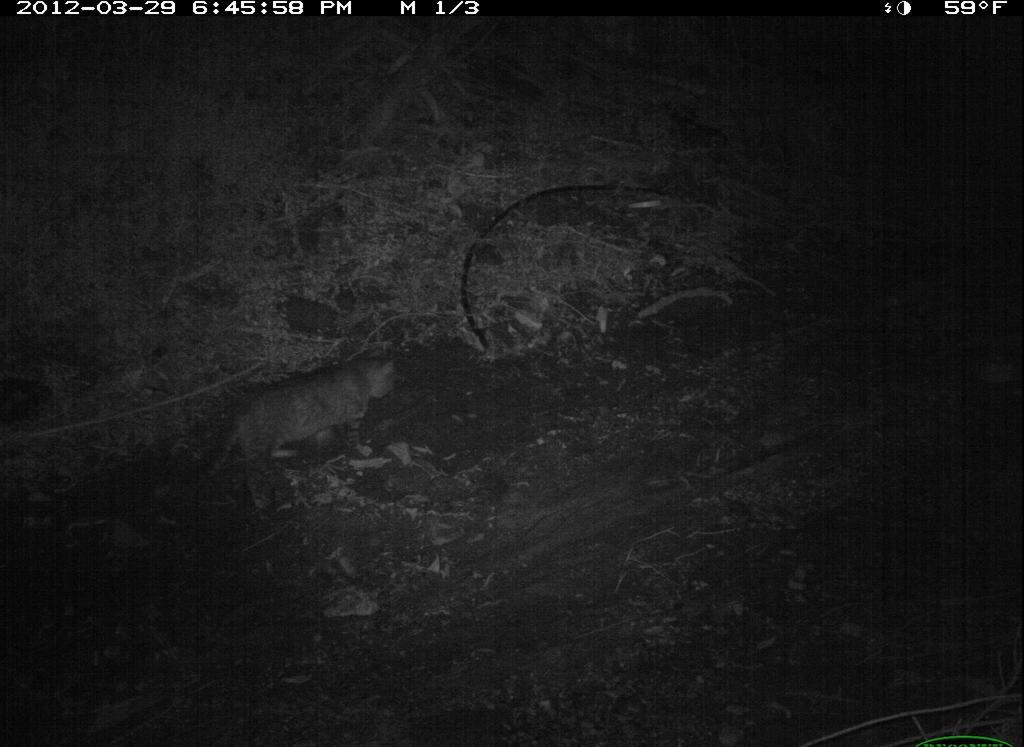cat: (200, 342, 420, 528)
